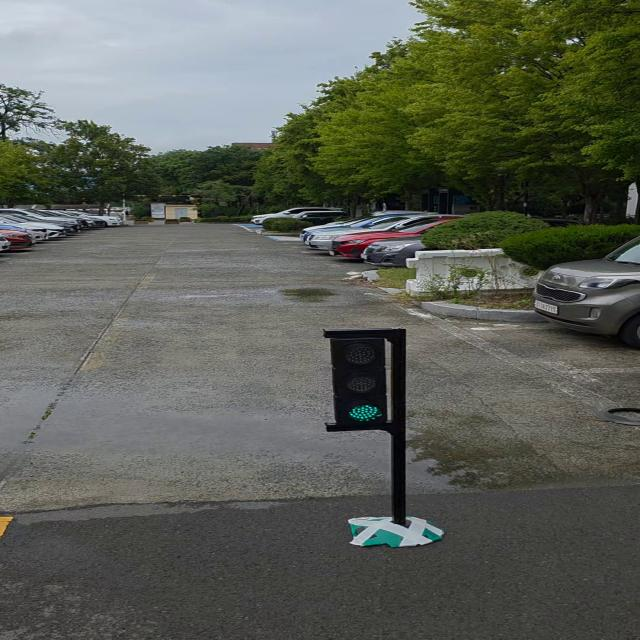green: (332, 331, 406, 428)
